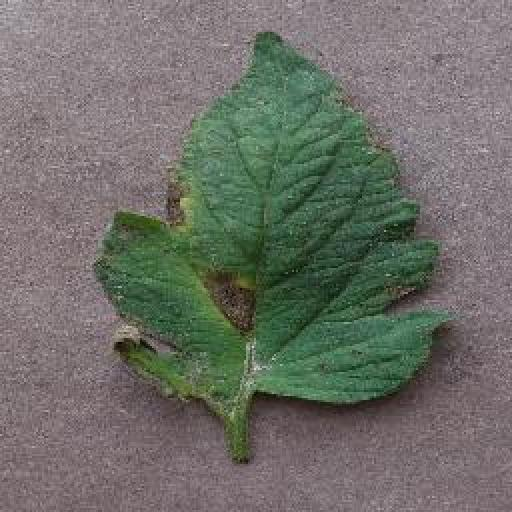disease_tomato: (94, 28, 455, 415)
